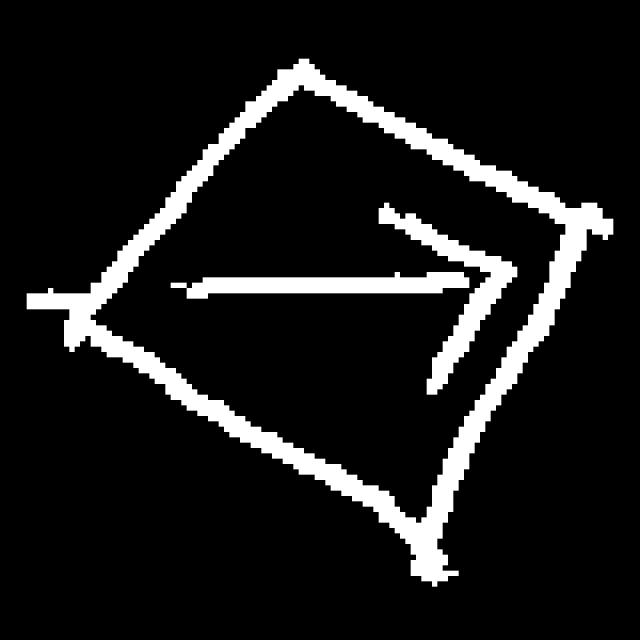dependant_current: (67, 61, 593, 560)
